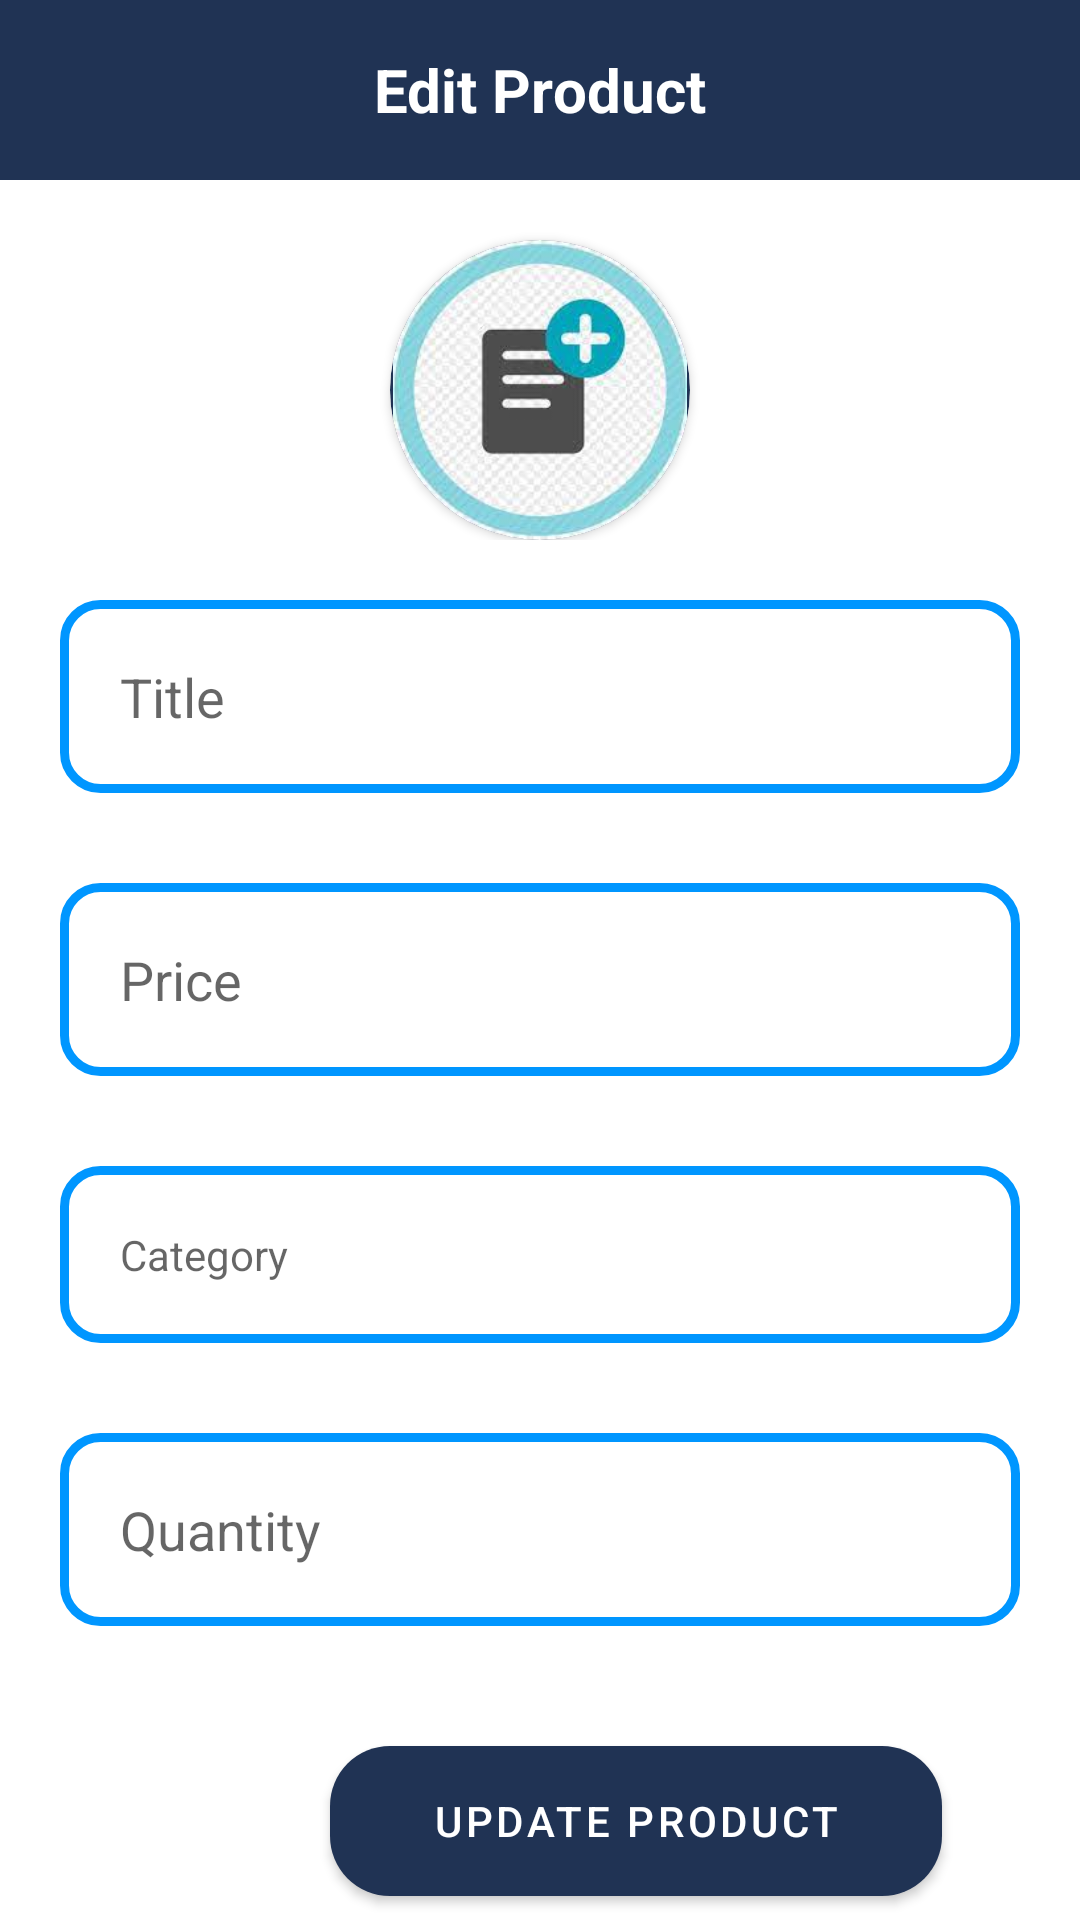

Point at icon controls on the screen. Image size 1080 x 1920, points as point (x, y).
addproduct: point (540, 390)
